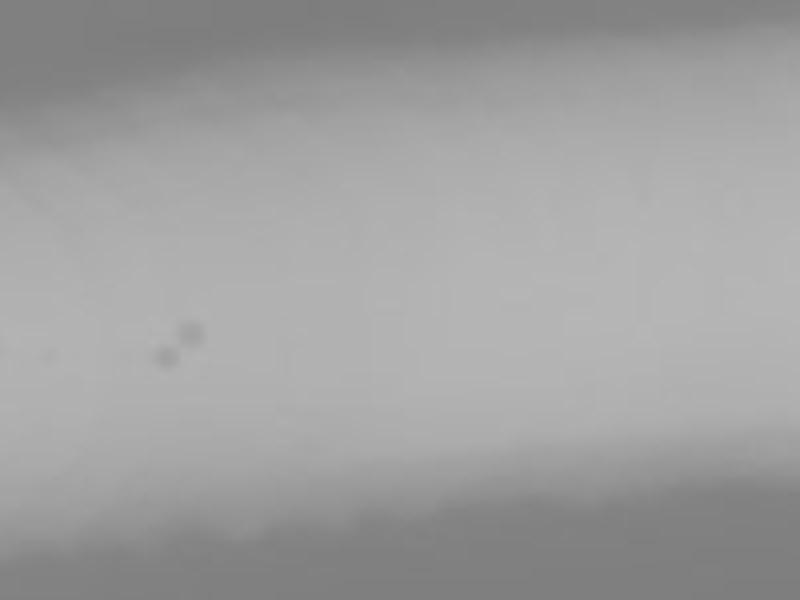defect: (174, 318, 208, 348), (152, 345, 182, 368)
